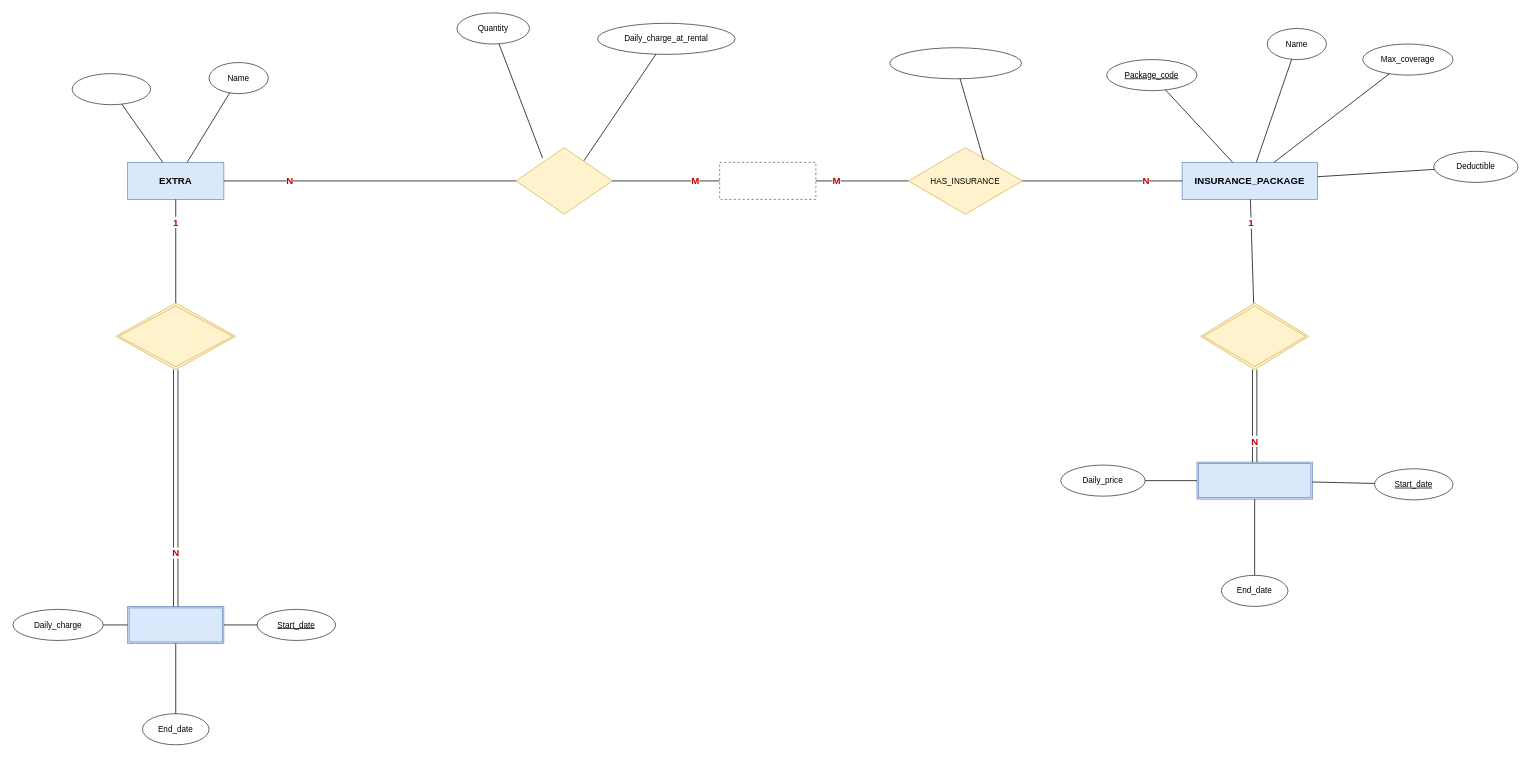
The diagram is 1531 pixels wide and 758 high, and some of its shapes have lost their labels. The shapes that lost their labels are listed below. From the top down, each one's box as (x1, y1, x2, y2) in pixels, then its label:
(889, 47, 1022, 79): Daily_price_at_rental
(71, 73, 151, 105): Extra_code
(515, 147, 612, 214): HAS_EXTRA
(719, 162, 816, 199): RENTAL
(115, 302, 236, 370): HAS_EXTRA_RATE
(1200, 302, 1309, 370): HAS_INS_RATE
(1196, 461, 1312, 499): INSURANCE_RATE
(127, 606, 224, 643): EXTRA_RATE
